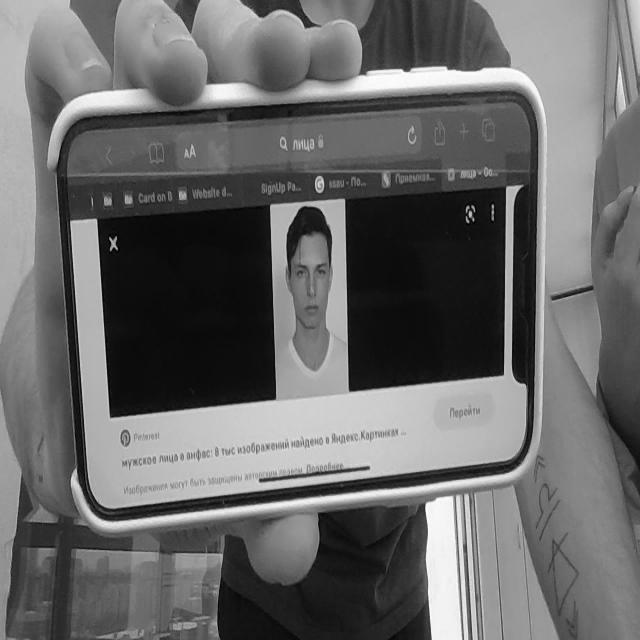fake: (40, 56, 554, 540)
